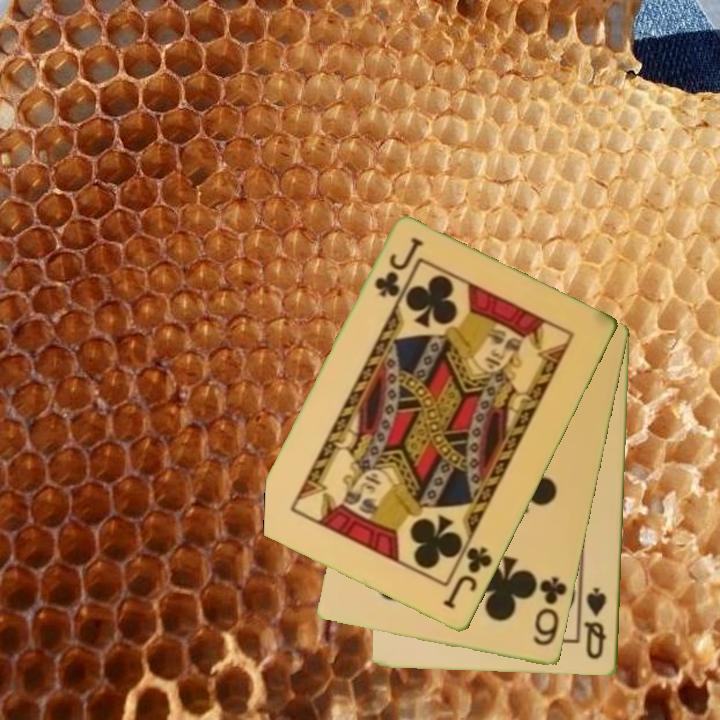6c: (530, 574, 570, 649)
Jc: (440, 543, 496, 613), (371, 234, 425, 302)
Qs: (582, 584, 610, 663)
